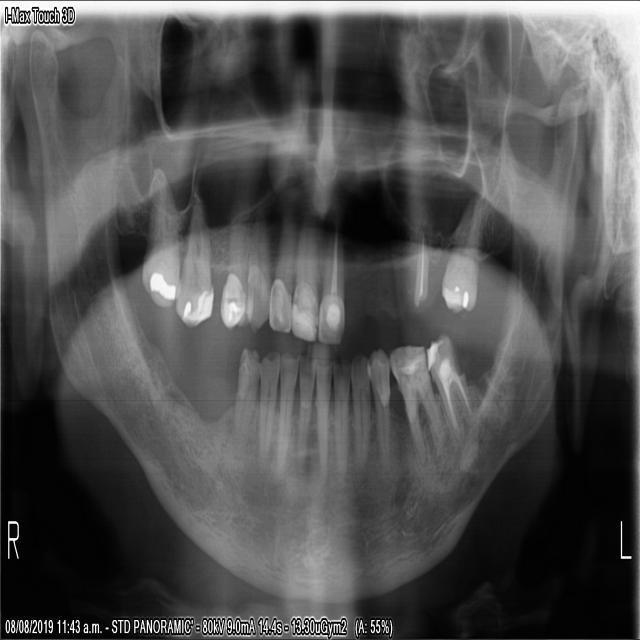LCD: (351, 354, 370, 464)
LID: (314, 353, 334, 479), (331, 360, 350, 473)
LIU: (317, 218, 346, 347)
LMD: (389, 340, 449, 464), (427, 333, 477, 439)
LMU: (437, 195, 486, 314)
LPMD: (368, 350, 390, 460)
LPMU: (412, 199, 429, 308)
RCD: (257, 348, 280, 472)
RCU: (246, 213, 271, 334)
RID: (275, 348, 299, 468), (296, 355, 316, 463)
RIU: (266, 214, 298, 335), (289, 222, 319, 344)
RMU: (139, 174, 180, 312), (173, 194, 215, 328)
RPMD: (230, 344, 261, 439)
RPMU: (219, 210, 246, 333)
